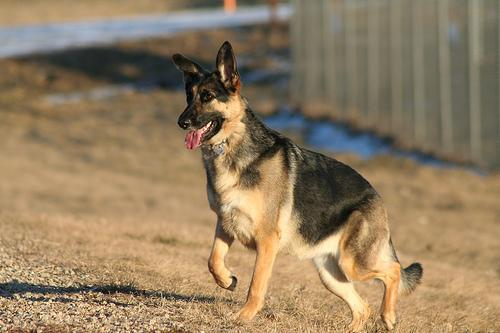German_shepherd: (170, 42, 423, 332)
